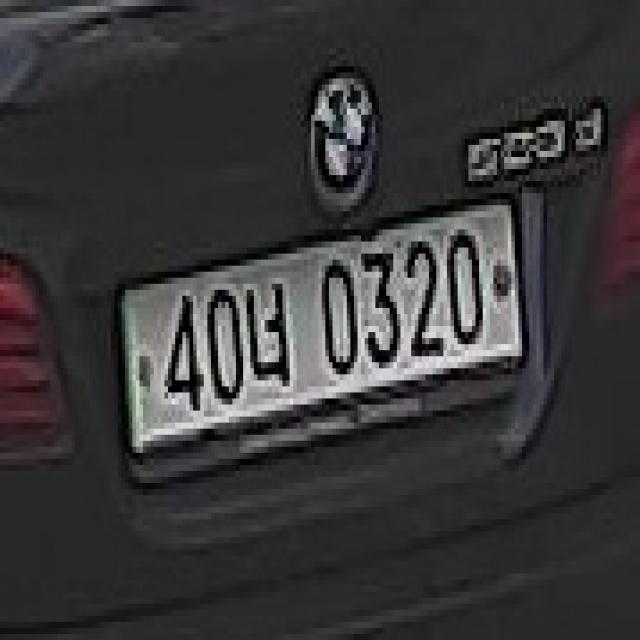0: (204, 284, 247, 411), (318, 253, 361, 374), (444, 223, 486, 344)
2: (400, 236, 447, 356)
3: (361, 242, 401, 368)
4: (157, 296, 204, 416)
license_plate: (118, 187, 533, 459)
neo: (243, 278, 293, 386)
